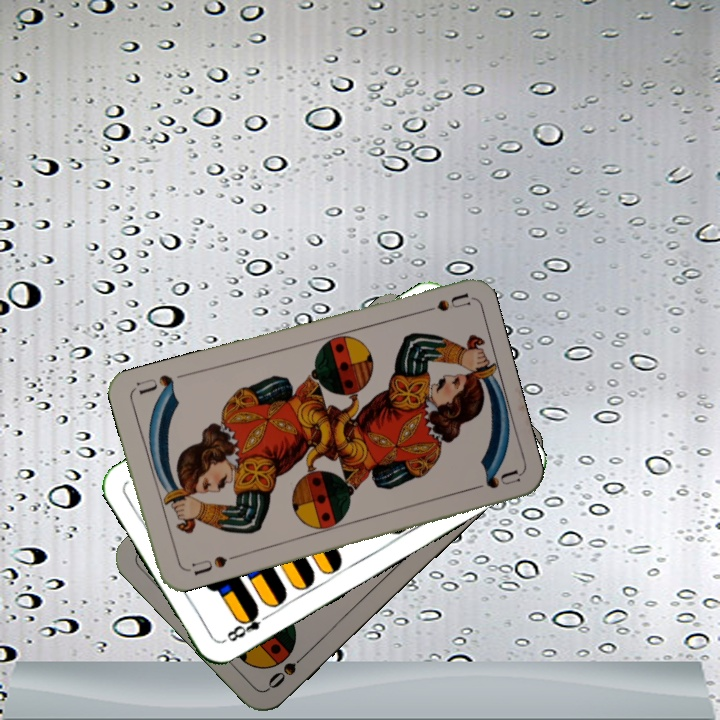E8: (223, 605, 273, 645)
SO: (263, 647, 312, 692)
SU: (412, 289, 471, 317), (181, 551, 239, 578)
